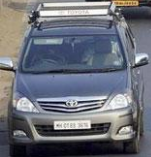car: (1, 2, 149, 154)
